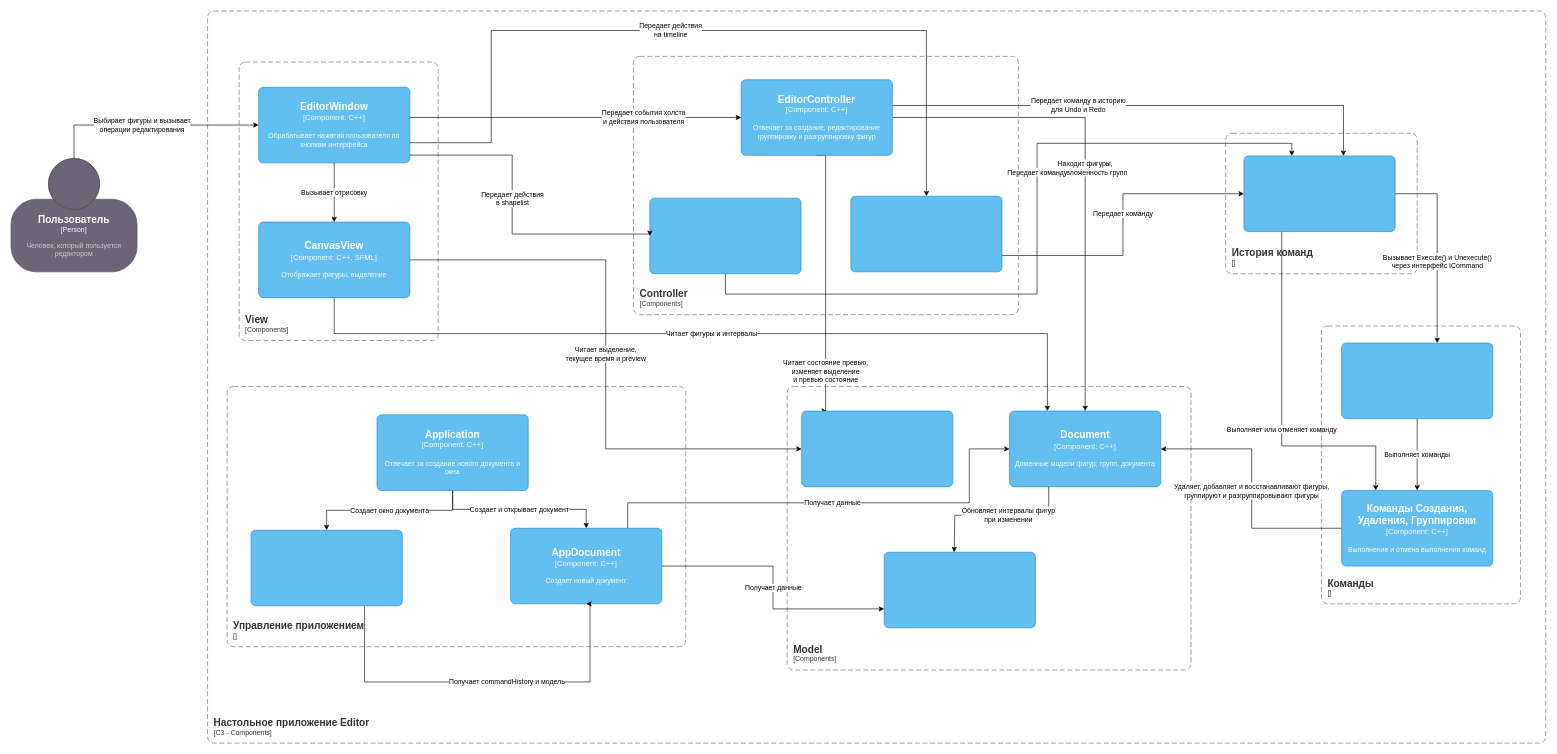
Some shapes in this 1557 by 754 pixel diagram are drawn without their labels. The shapes that lost their labels are listed below. From the top down, each one's centre as x and y in pixels, then its label:
point 1319,193: CommandHistory [Component: С++] Сохраняет историю команд
point 725,236: ShapeListController [Component: С++] Отвечает за редактирование списка фигур
point 926,234: TimelineController [Component: С++] Отвечает за редактирование timeline
point 1417,380: MacroCommand [Component: С++] Объединяет команды в одну общую команду
point 877,448: EditorState [Component: С++] Превью состояние фигур, выделения, группы
point 326,568: AppWindow [Component: С++] Создает новое окно
point 959,590: Timeline [Component: С++] Доменная модель Timeline фигур
